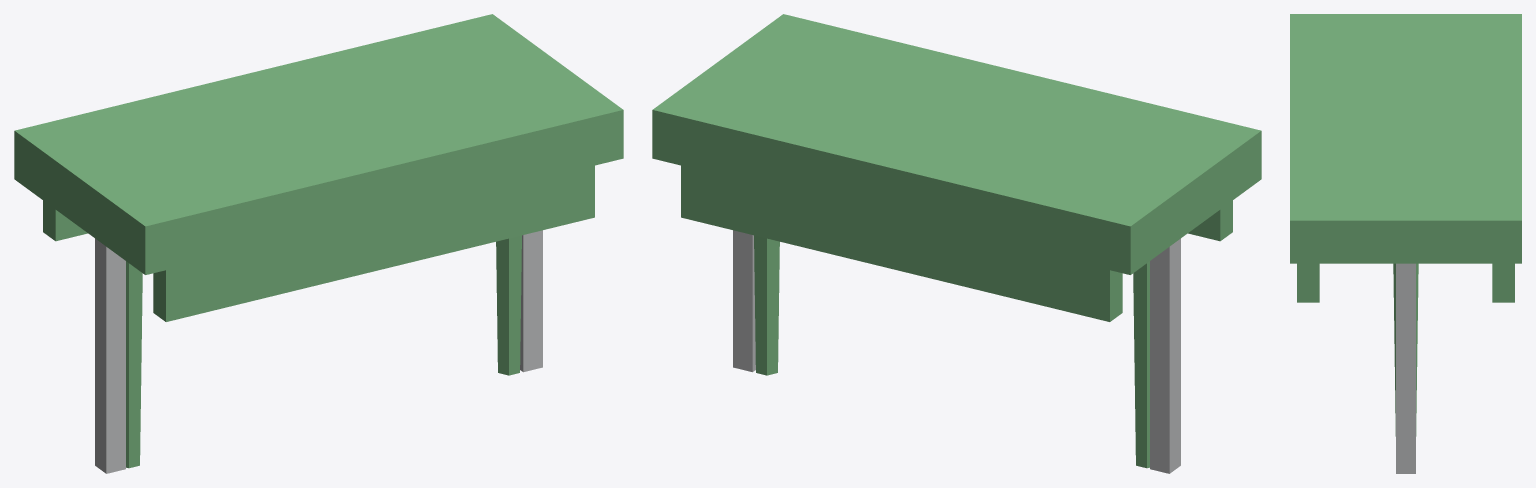
File: flora_39_passiflora_edulis_gian_chanh_day_tim_xuan_tho_don_duong.glb
3 views of the same model, side by side, from view 1: azimuth 30°, elevation 25°; view 2: azimuth 150°, elevation 25°; view 3: azimuth 270°, elevation 25° (orthographic). The views are drawn at different scales.
Visible parts, largest first — view 1: flora_39_passiflora_edulis_gian_chanh_day_tim_xuan_tho_don_d; view 2: flora_39_passiflora_edulis_gian_chanh_day_tim_xuan_tho_don_d; view 3: flora_39_passiflora_edulis_gian_chanh_day_tim_xuan_tho_don_d.
Boxes of the visible parts, <box> form: flora_39_passiflora_edulis_gian_chanh_day_tim_xuan_tho_don_d: <box>14,14,623,473</box>; flora_39_passiflora_edulis_gian_chanh_day_tim_xuan_tho_don_d: <box>652,14,1261,473</box>; flora_39_passiflora_edulis_gian_chanh_day_tim_xuan_tho_don_d: <box>1290,14,1521,473</box>.
Size of the model in its own units: 3.9 by 2.31 by 1.85.
